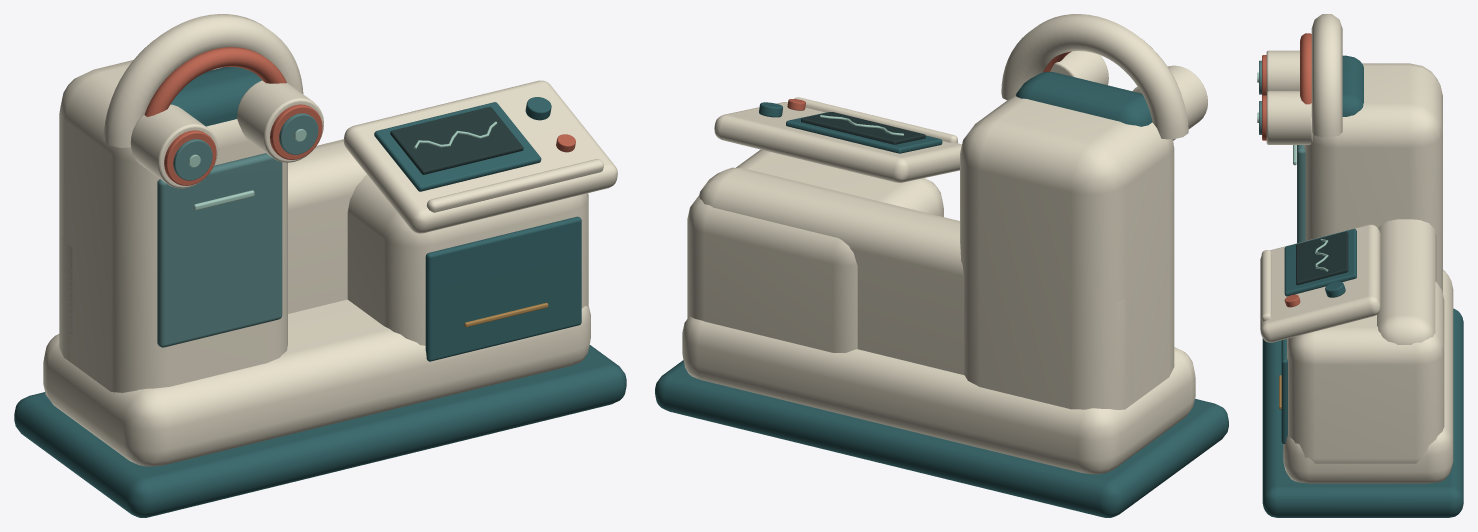
Rendered from echo.glb.
3 views of the same model, side by side, from view 1: azimuth 30°, elevation 25°; view 2: azimuth 150°, elevation 25°; view 3: azimuth 270°, elevation 25° (orthographic). The views are drawn at different scales.
Visible parts, largest first — view 1: Echo standing Clinical echo enamel, Echo standing Clinical echo teal, Echo standing Clinical echo soft_teal, Echo standing Clinical echo coral, Echo standing Clinical echo graphite, Echo standing Clinical echo signal; view 2: Echo standing Clinical echo enamel, Echo standing Clinical echo teal, Echo standing Clinical echo graphite; view 3: Echo standing Clinical echo enamel, Echo standing Clinical echo teal, Echo standing Clinical echo graphite, Echo standing Clinical echo coral, Echo standing Clinical echo soft_teal, Echo standing Clinical echo signal.
Boxes of the visible parts, <box> form: Echo standing Clinical echo enamel: <box>43,14,617,466</box>; Echo standing Clinical echo teal: <box>14,67,626,517</box>; Echo standing Clinical echo soft_teal: <box>157,113,318,347</box>; Echo standing Clinical echo coral: <box>144,47,575,185</box>; Echo standing Clinical echo graphite: <box>390,107,523,174</box>; Echo standing Clinical echo signal: <box>188,121,497,210</box>; Echo standing Clinical echo enamel: <box>682,14,1207,474</box>; Echo standing Clinical echo teal: <box>655,72,1228,517</box>; Echo standing Clinical echo graphite: <box>801,112,925,144</box>; Echo standing Clinical echo enamel: <box>1260,14,1453,483</box>; Echo standing Clinical echo teal: <box>1262,55,1463,517</box>; Echo standing Clinical echo graphite: <box>1296,231,1348,285</box>; Echo standing Clinical echo coral: <box>1262,33,1311,307</box>; Echo standing Clinical echo soft_teal: <box>1259,60,1305,243</box>; Echo standing Clinical echo signal: <box>1257,72,1328,271</box>.
Size of the model in its own units: 1.74 by 1.52 by 0.801.
